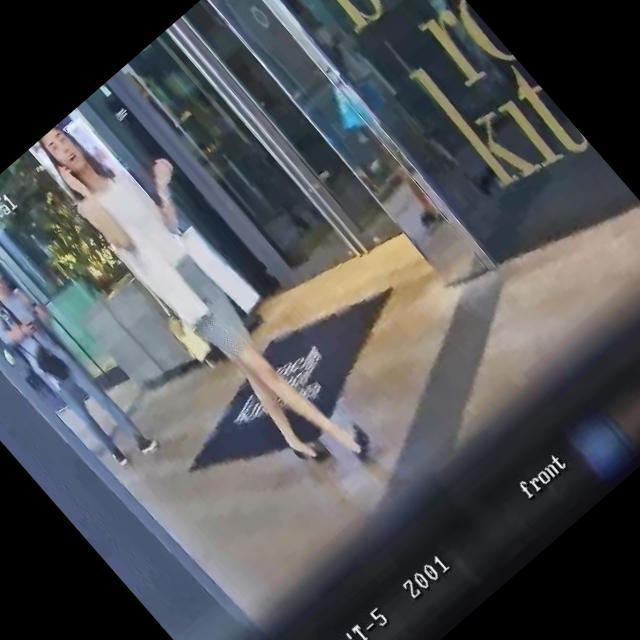person: (25, 85, 403, 498), (0, 247, 165, 479)
